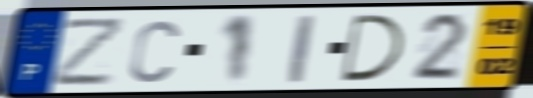1: (217, 13, 254, 87)
2: (409, 11, 471, 83)
C: (126, 17, 182, 85)
D: (339, 13, 408, 84)
I: (287, 12, 318, 85)
Z: (50, 15, 129, 88)
